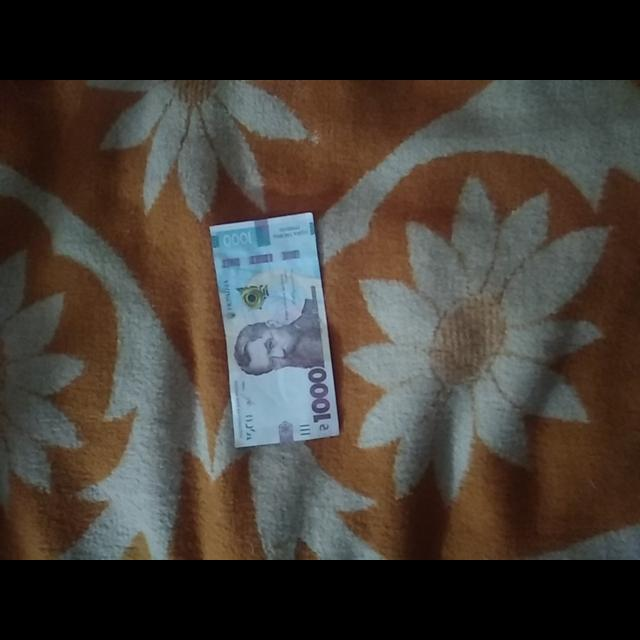1000uah: (210, 213, 341, 447)
